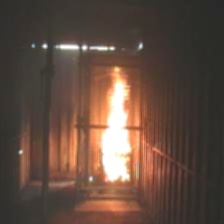fire: (100, 74, 137, 179)
